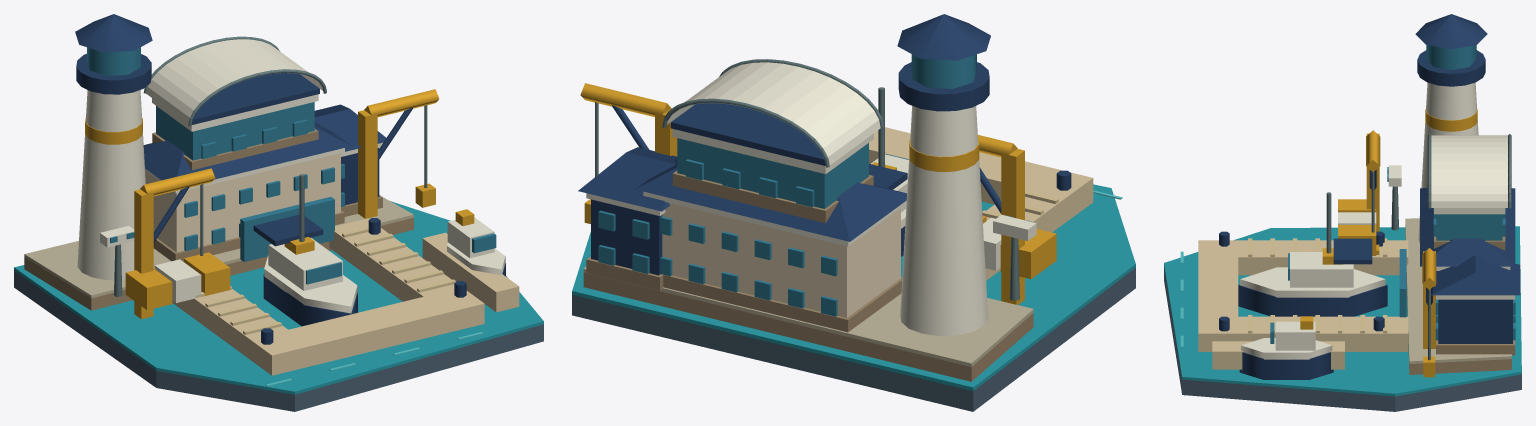
The model's file is port-lv4.glb.
The picture shows the model from 3 angles, left to right: view 1: azimuth 30°, elevation 25°; view 2: azimuth 150°, elevation 25°; view 3: azimuth 270°, elevation 25°; orthographic projection. The views are drawn at different scales.
Visible parts, largest first — view 1: foundation_water, pier_stone, foundation_slate, lighthouse_white, warehouse_cream, terminal_canopy_white, cranes_ochre, vessel_white, terminal_glass, warehouse_roof_naval, quay_paving, terminal_roof_naval (+26 smaller); view 2: lighthouse_white, foundation_water, warehouse_cream, foundation_slate, terminal_canopy_white, quay_stoneDark, quay_paving, warehouse_roof_naval, terminal_glass, cranes_ochre, pier_stone, terminal_roof_naval (+22 smaller); view 3: foundation_water, pier_stone, vessel_white, vessel_naval, foundation_slate, terminal_canopy_white, warehouse_annex_naval, warehouse_roof_naval, quay_paving, warehouse_annex_roof_naval, lighthouse_white, cranes_ochre (+19 smaller).
Boxes of the visible parts, x1,y1,x2,y2 form: foundation_water: (14, 201, 543, 394); pier_stone: (172, 218, 484, 375); foundation_slate: (14, 270, 543, 411); lighthouse_white: (77, 90, 145, 280); warehouse_cream: (145, 153, 340, 252); terminal_canopy_white: (146, 39, 322, 124); cranes_ochre: (134, 89, 439, 319); vessel_white: (264, 217, 505, 313); terminal_glass: (156, 102, 314, 160); warehouse_roof_naval: (143, 122, 351, 180); quay_paving: (24, 197, 413, 298); terminal_roof_naval: (192, 73, 319, 124); lighthouse_white: (900, 105, 988, 335); foundation_water: (572, 184, 1135, 390); warehouse_cream: (662, 203, 900, 317); foundation_slate: (572, 268, 1135, 411); terminal_canopy_white: (667, 62, 880, 165); quay_stoneDark: (583, 272, 1033, 381); quay_paving: (583, 266, 1033, 366); warehouse_roof_naval: (635, 159, 906, 241); terminal_glass: (677, 138, 868, 208); cranes_ochre: (580, 83, 1024, 304); pier_stone: (869, 127, 1093, 280); terminal_roof_naval: (670, 103, 825, 165); foundation_water: (1164, 226, 1521, 396); pier_stone: (1198, 240, 1408, 351); vessel_white: (1240, 252, 1385, 359); vessel_naval: (1238, 238, 1387, 379); foundation_slate: (1164, 266, 1521, 411); terminal_canopy_white: (1431, 135, 1507, 207); warehouse_annex_naval: (1438, 299, 1512, 343); warehouse_roof_naval: (1420, 187, 1515, 266); quay_paving: (1405, 218, 1511, 363); warehouse_annex_roof_naval: (1431, 255, 1520, 295); lighthouse_white: (1418, 82, 1478, 242); cranes_ochre: (1366, 130, 1436, 348).
Bounding box in the file's own units: 1 × 0.7183 × 0.9036.
